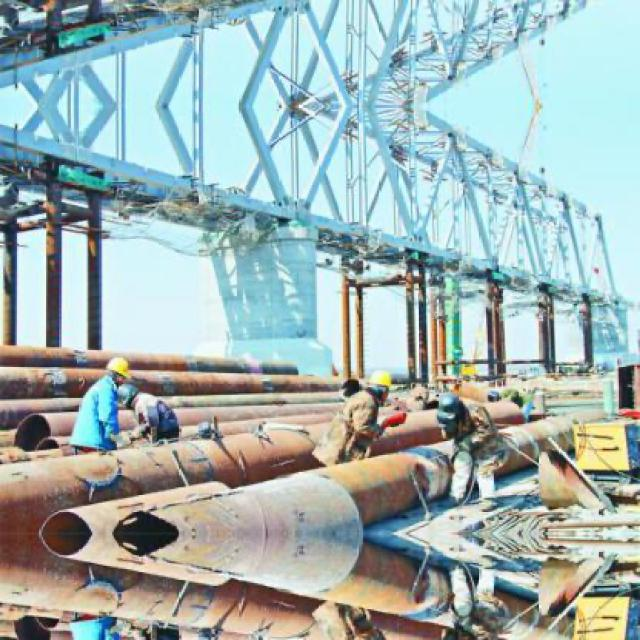con casco: (334, 372, 436, 438), (424, 392, 492, 446), (84, 346, 154, 390)
